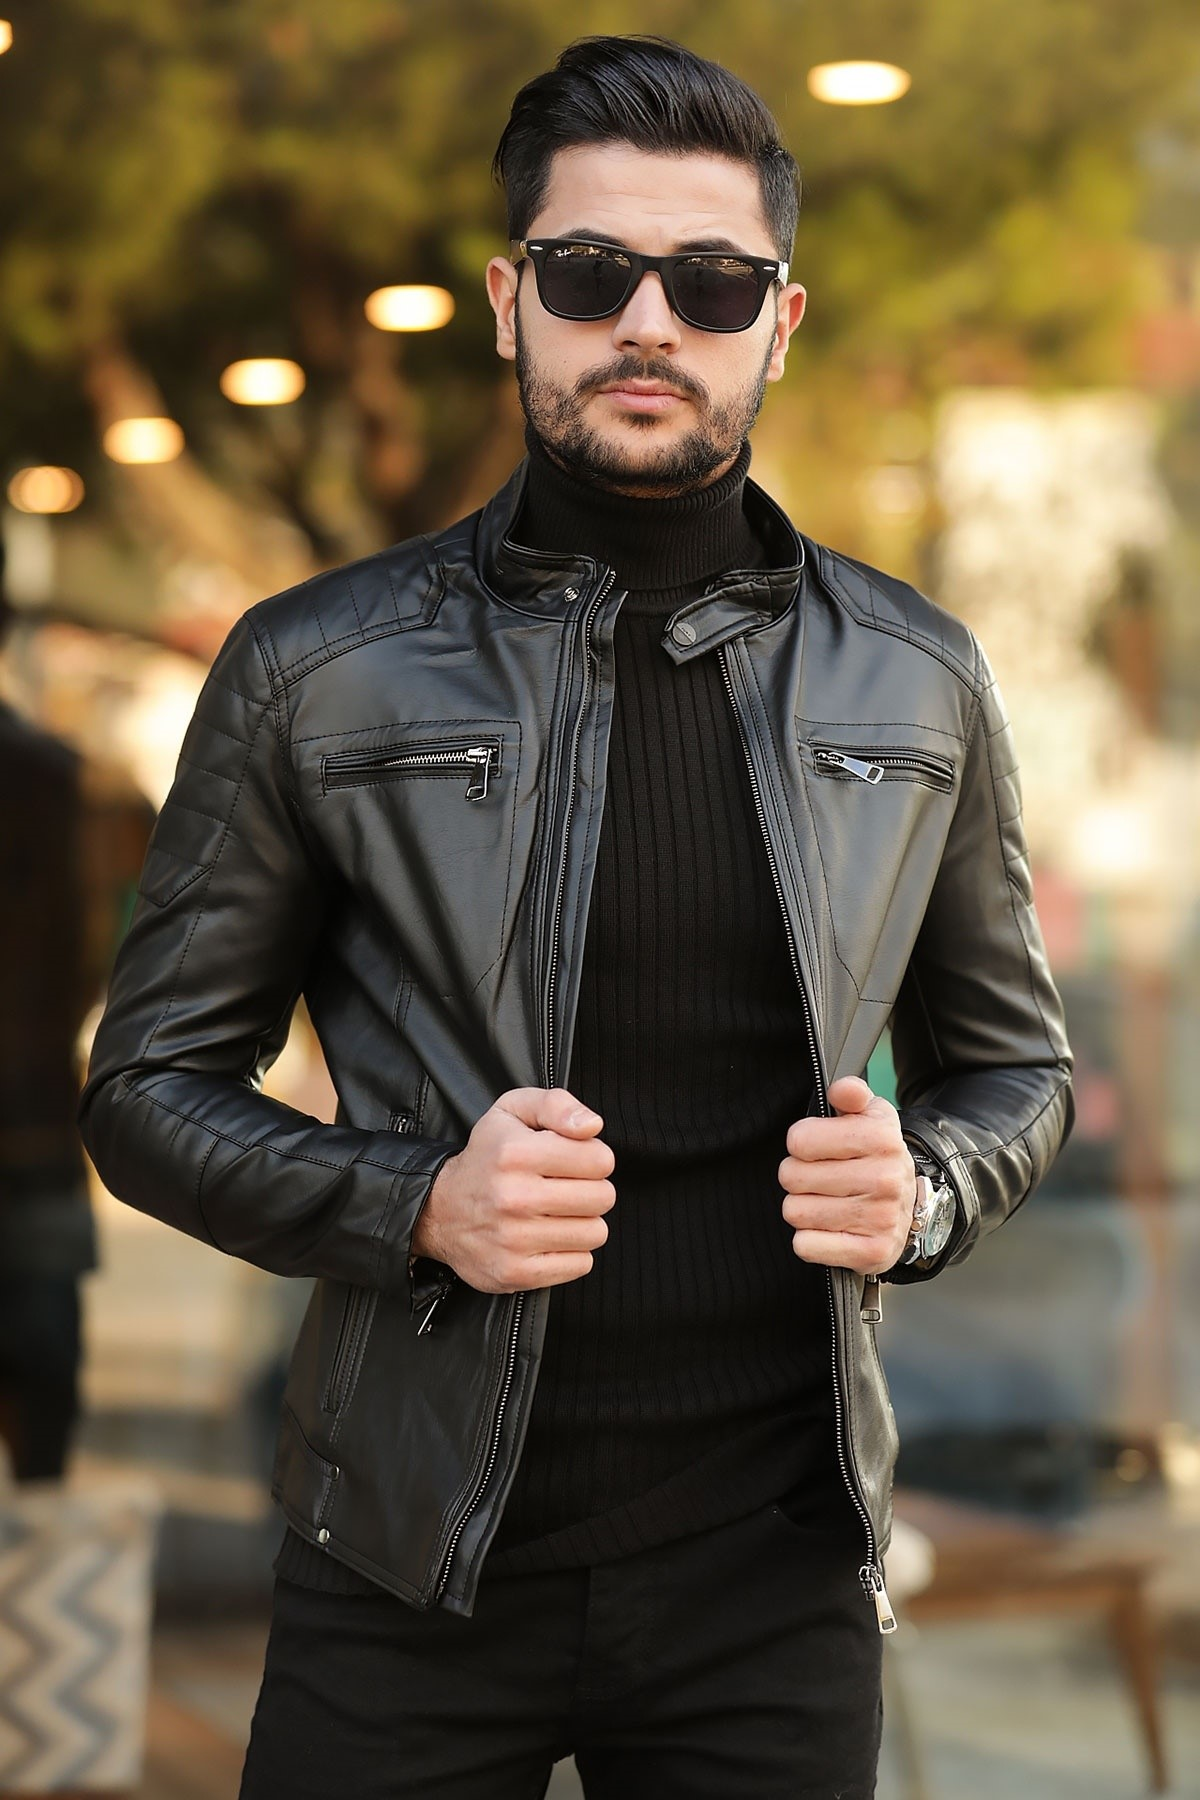face_no_mask: (508, 45, 793, 497)
